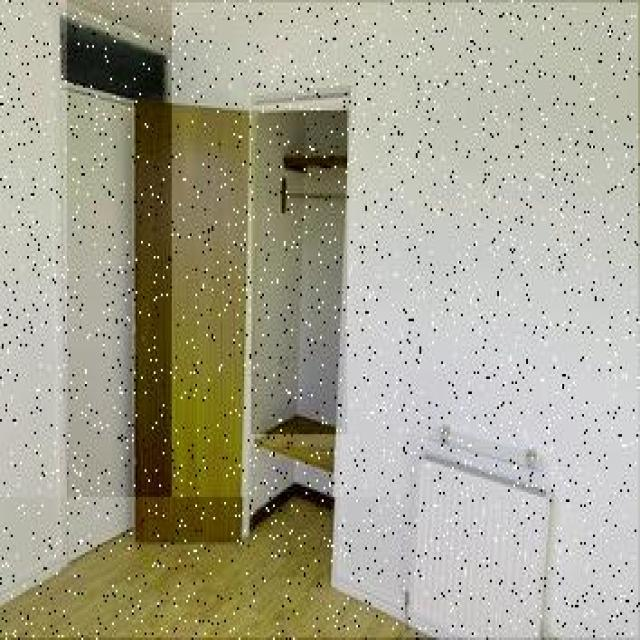Wall: (174, 4, 638, 637), (0, 498, 405, 640), (0, 0, 67, 600), (252, 113, 347, 434), (72, 1, 405, 43), (254, 449, 333, 512)
